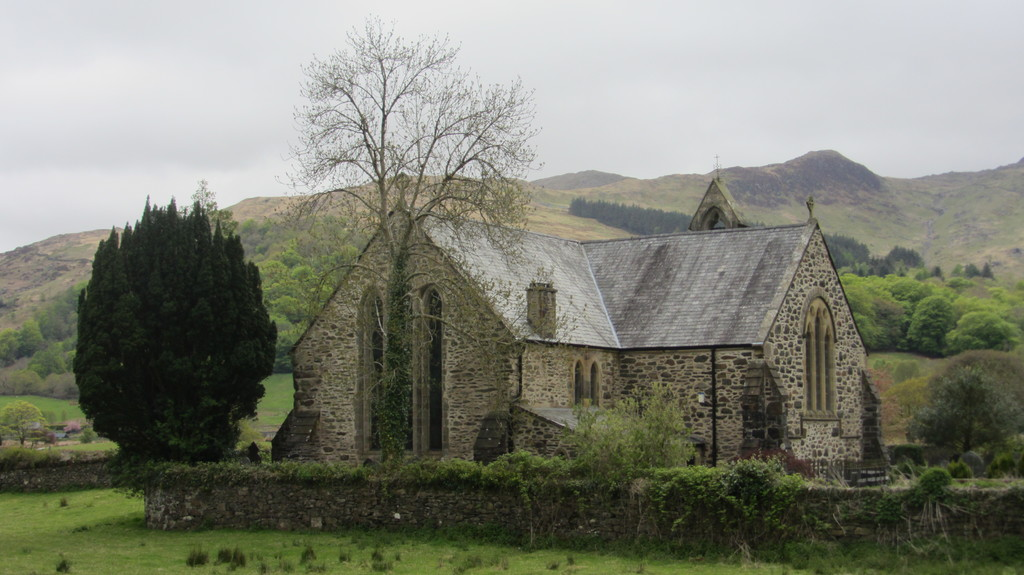Tree: (277, 15, 544, 465), (0, 212, 353, 370), (569, 199, 923, 265), (830, 275, 1023, 354)
